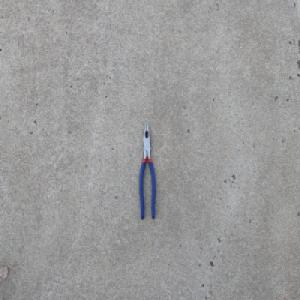Pliers: (138, 120, 155, 221)
